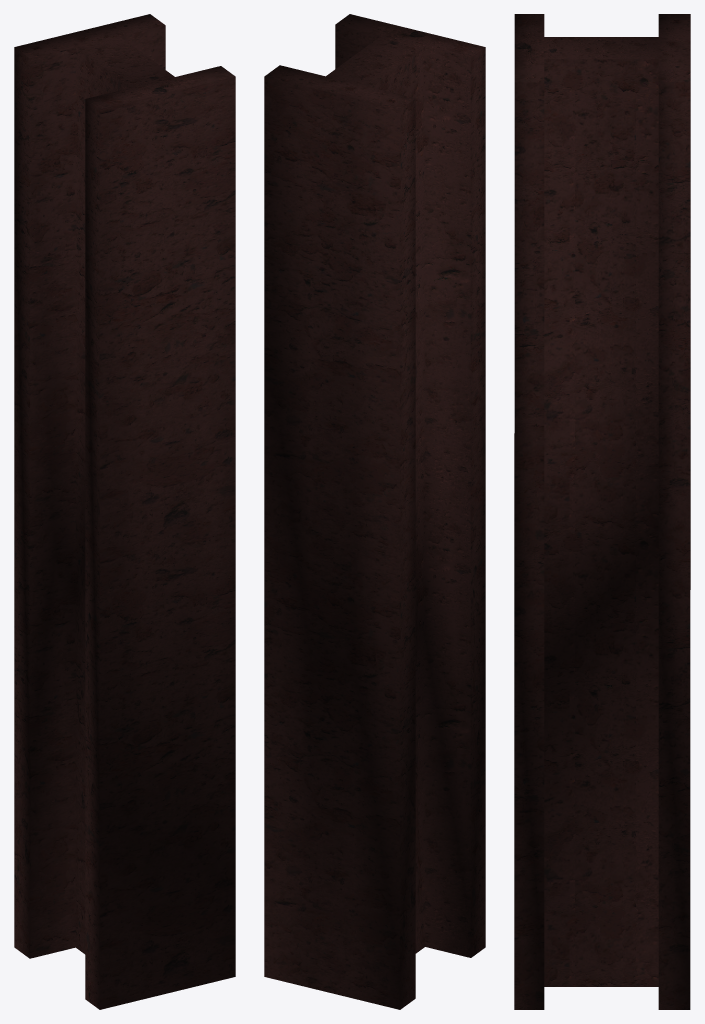
File: Ibeam.fbx
3 renders of one model, left to right at view 1: azimuth 30°, elevation 25°; view 2: azimuth 150°, elevation 25°; view 3: azimuth 270°, elevation 25°, orthographic. The views are drawn at different scales.
Parts seen in each view (by area): view 1: Cube; view 2: Cube; view 3: Cube.
Part boxes in pixels (x1,y1,x2,y2): Cube: [14, 14, 235, 1009]; Cube: [264, 14, 485, 1009]; Cube: [514, 14, 690, 1009].
Size of the model in its own units: 0.9141 by 5.79 by 0.9961.
